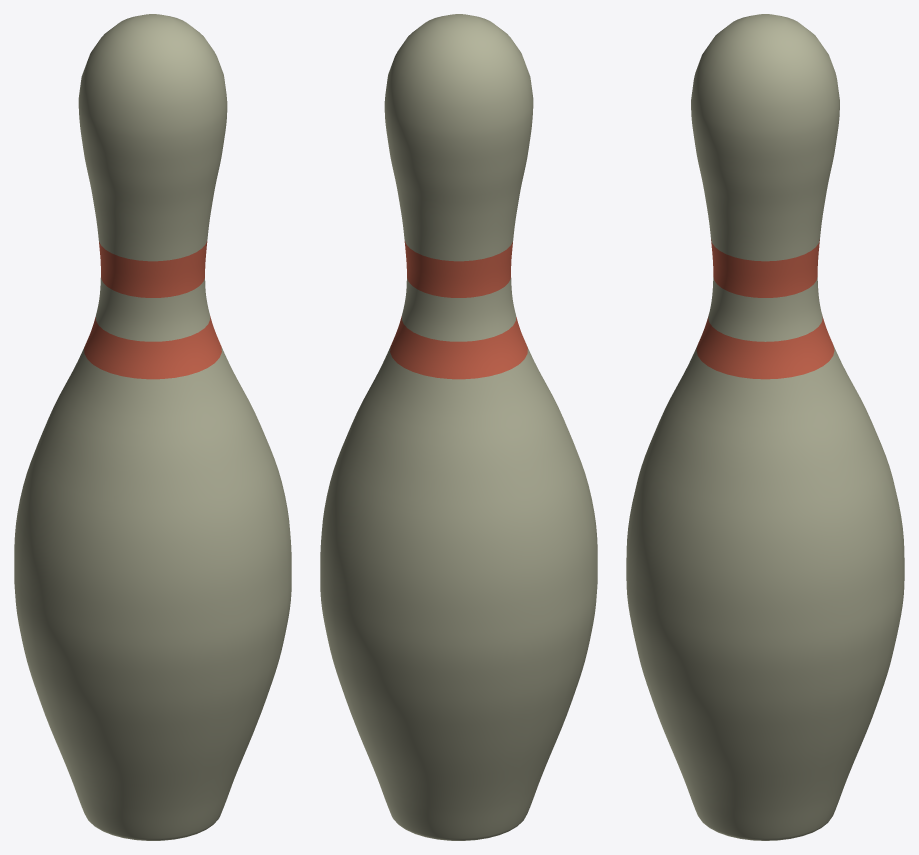
The model's file is Pin_High_Poly.glb.
3 views of the same model, side by side, from view 1: azimuth 30°, elevation 25°; view 2: azimuth 150°, elevation 25°; view 3: azimuth 270°, elevation 25° (orthographic).
Visible parts, largest first — view 1: Pin High Poly; view 2: Pin High Poly; view 3: Pin High Poly.
Boxes of the visible parts, left/top/right/bottom form: Pin High Poly: left=14, top=14, right=291, bottom=840; Pin High Poly: left=320, top=14, right=597, bottom=840; Pin High Poly: left=626, top=14, right=904, bottom=840.
Size of the model in its own units: 0.1211 by 0.381 by 0.1211.
